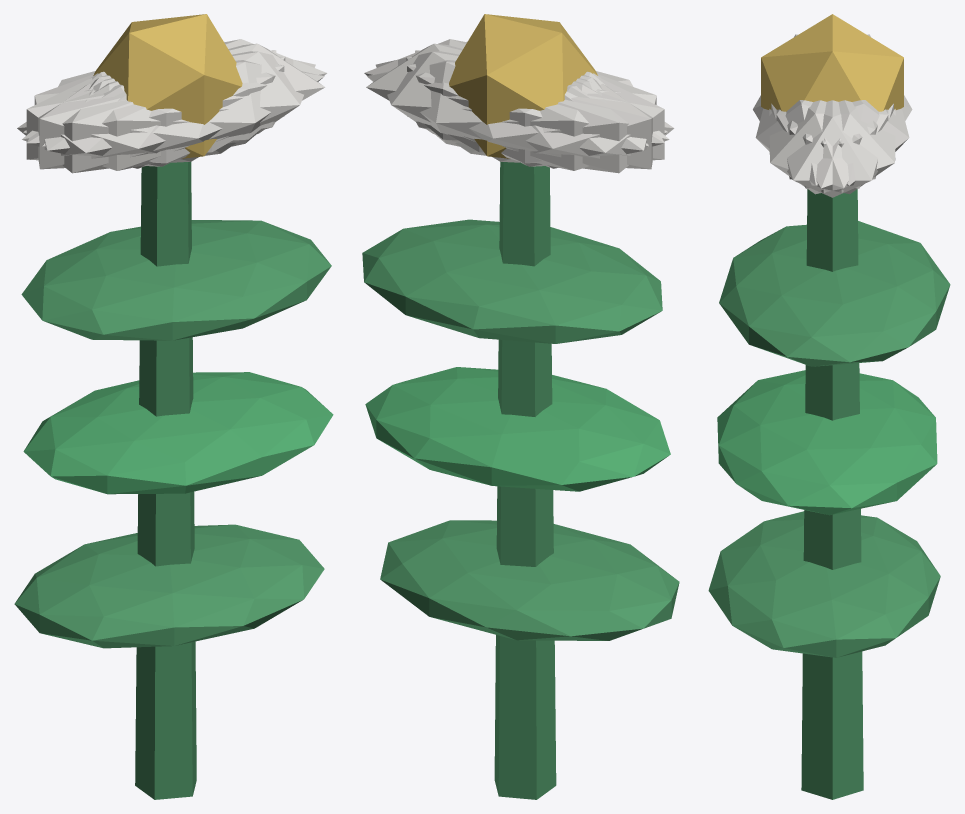
Rendered from sansevieria-cylindrica.glb.
3 views of the same model, side by side, from view 1: azimuth 30°, elevation 25°; view 2: azimuth 150°, elevation 25°; view 3: azimuth 270°, elevation 25° (orthographic).
Parts seen in each view (by area): view 1: leaf0, leaf2, leaf1, stem, center, petal1, petal6, petal2, petal5, petal7, petal0, petal4 (+2 smaller); view 2: leaf2, leaf1, leaf0, stem, center, petal8, petal3, petal7, petal4, petal2, petal0, petal5 (+2 smaller); view 3: leaf2, leaf1, leaf0, stem, center, petal0, petal5, petal4, petal8, petal1.
Boxes of the visible parts, x1,y1,x2,y2 form: leaf0: [14, 524, 324, 648]; leaf2: [21, 220, 331, 340]; leaf1: [23, 372, 333, 494]; stem: [135, 161, 196, 799]; center: [93, 14, 242, 158]; petal1: [22, 60, 324, 170]; petal6: [17, 73, 235, 173]; petal2: [38, 50, 276, 169]; petal5: [42, 51, 315, 163]; petal7: [26, 56, 285, 166]; petal0: [93, 43, 324, 152]; petal4: [23, 39, 326, 143]; leaf2: [362, 219, 662, 343]; leaf1: [365, 367, 670, 491]; leaf0: [380, 520, 679, 640]; stem: [494, 161, 556, 799]; center: [449, 14, 597, 158]; petal8: [367, 60, 669, 170]; petal3: [455, 73, 674, 173]; petal7: [415, 50, 652, 169]; petal4: [375, 51, 648, 163]; petal2: [406, 56, 664, 166]; petal0: [366, 43, 598, 152]; petal5: [364, 39, 668, 143]; leaf2: [719, 221, 950, 366]; leaf1: [717, 370, 937, 515]; leaf0: [708, 511, 940, 657]; stem: [801, 189, 863, 799]; center: [761, 14, 903, 111]; petal0: [771, 100, 893, 197]; petal5: [769, 100, 888, 194]; petal4: [776, 100, 895, 194]; petal8: [787, 100, 909, 185]; petal1: [755, 100, 877, 185].
Bounding box in the file's own units: 0.1452 × 0.3559 × 0.1036.
